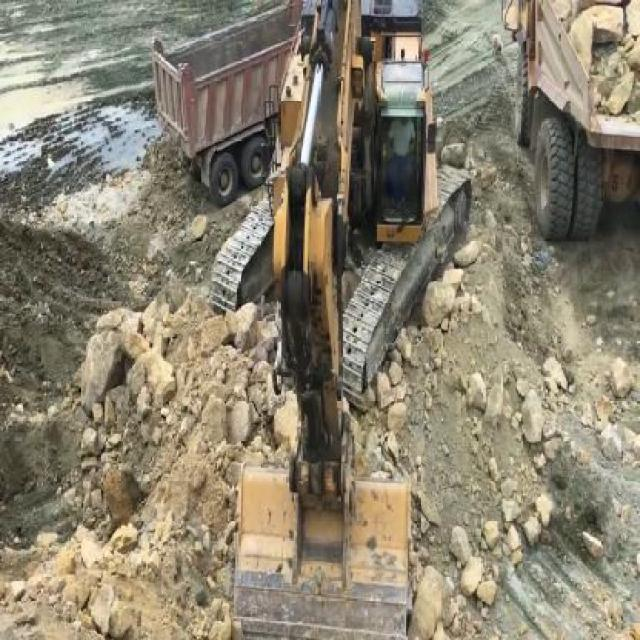dump_truck: (148, 1, 322, 208), (497, 0, 638, 246)
excavator: (207, 0, 475, 638)
